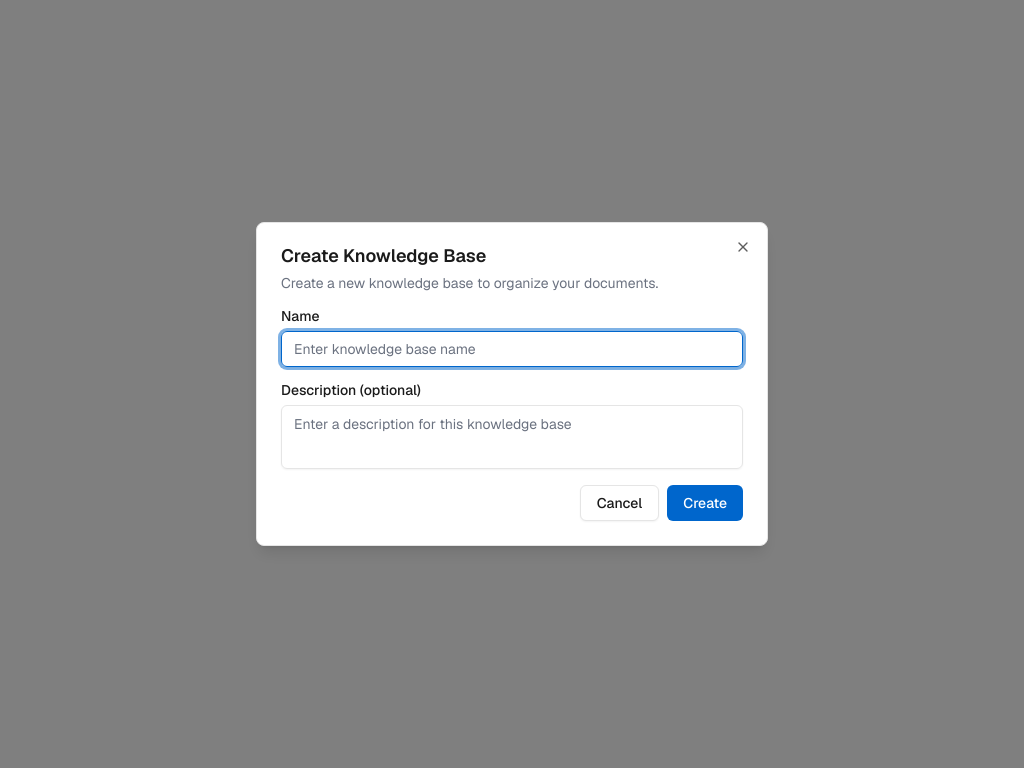
Test: KbCreateModal › shows error message on creation failure
In the field labelled "Name": (512, 349) [281,331,743,367], type "New KB"
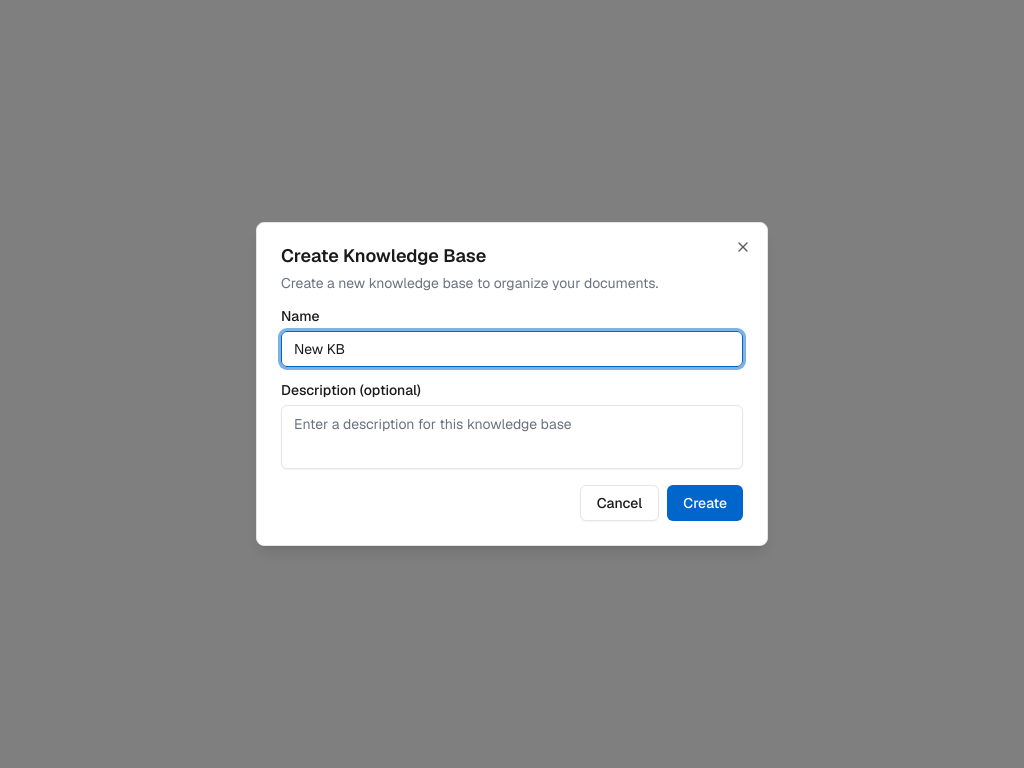
Click the button "Create": (705, 503) [667,485,743,521]
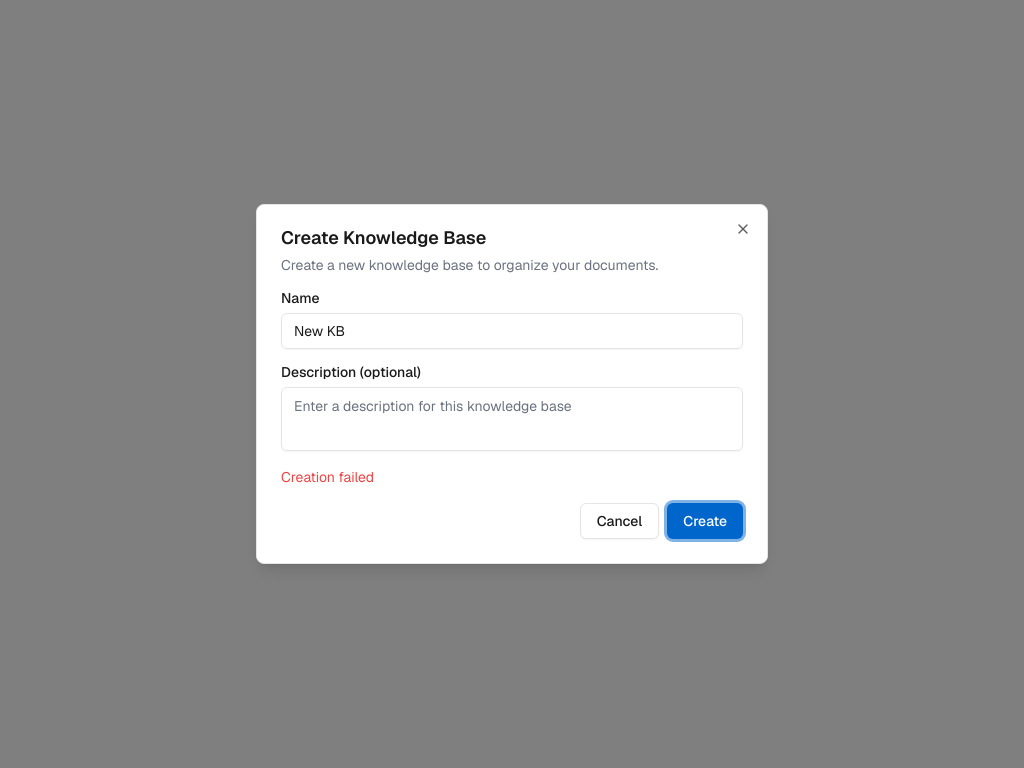
Expected: the text "Creation failed" is shown, [281,468,374,486]
